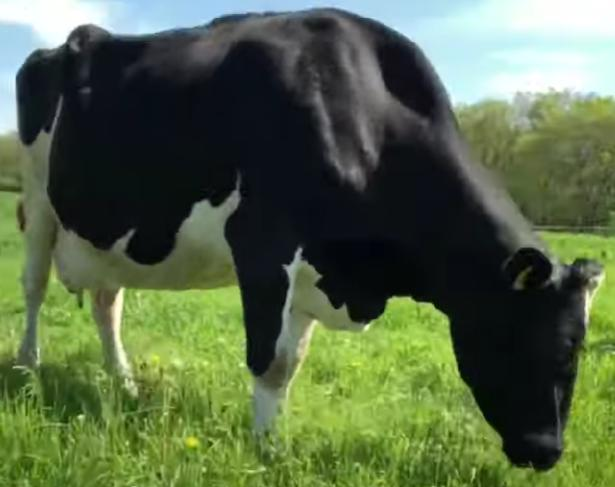cow: (15, 6, 606, 472)
